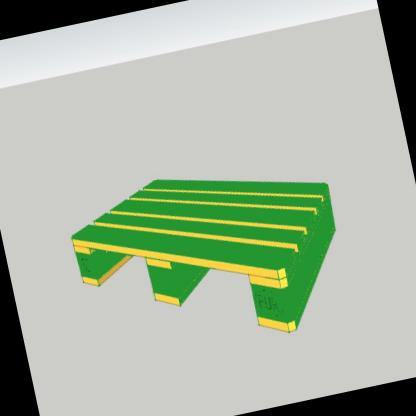BoxFace: (66, 169, 339, 341)
